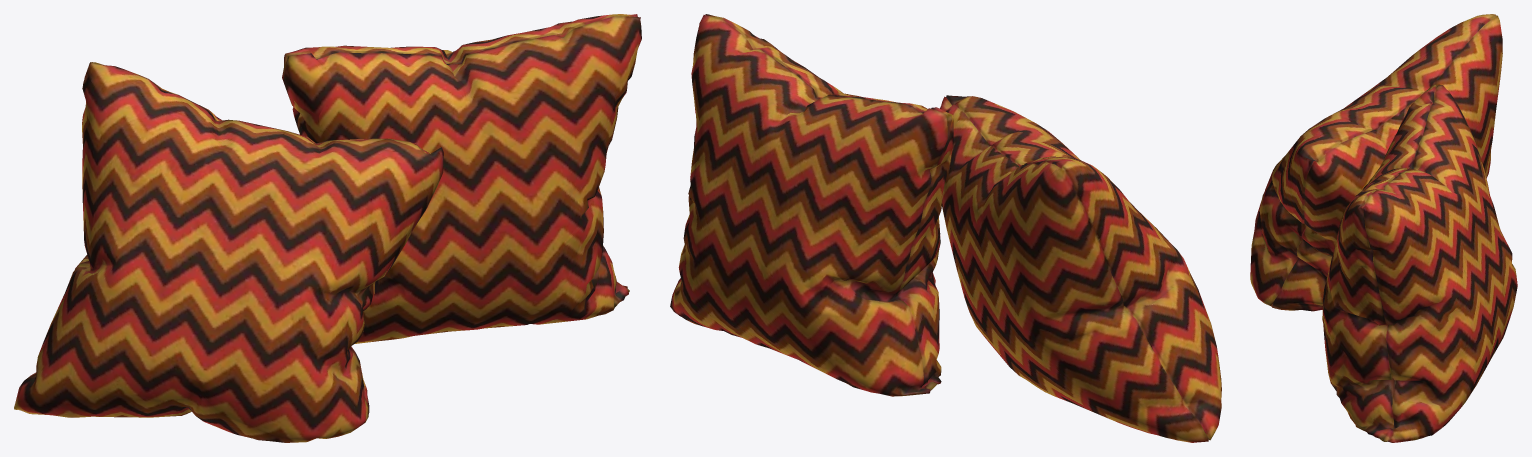
Rendered from throw_pillows_01.glb.
The picture shows the model from 3 angles, left to right: view 1: azimuth 30°, elevation 25°; view 2: azimuth 150°, elevation 25°; view 3: azimuth 270°, elevation 25°; orthographic projection. The views are drawn at different scales.
Visible parts, largest first — view 1: throw_pillows_01_pillow01, throw_pillows_01_pillow02; view 2: throw_pillows_01_pillow02, throw_pillows_01_pillow01; view 3: throw_pillows_01_pillow02, throw_pillows_01_pillow01.
Boxes of the visible parts, x1,y1,x2,y2 form: throw_pillows_01_pillow01: [14, 62, 443, 442]; throw_pillows_01_pillow02: [282, 14, 641, 343]; throw_pillows_01_pillow02: [670, 14, 953, 396]; throw_pillows_01_pillow01: [940, 95, 1221, 442]; throw_pillows_01_pillow02: [1322, 84, 1517, 442]; throw_pillows_01_pillow01: [1250, 14, 1502, 311].
Size of the model in its own units: 0.9401 by 0.4502 by 0.4519.
1 material, 1 textured.
